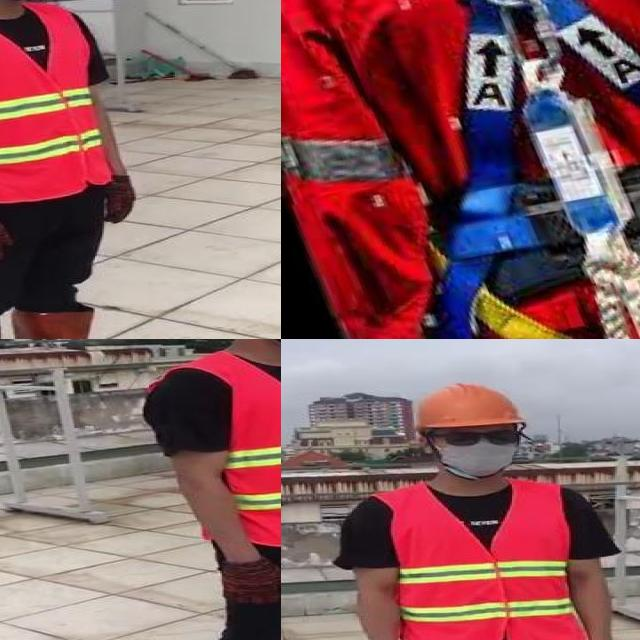Harness: (436, 0, 640, 339)
boots: (7, 308, 146, 339)
face_mask: (433, 424, 522, 478)
glasses: (434, 422, 532, 454)
hand_glove: (216, 558, 281, 604), (111, 175, 136, 223), (0, 218, 13, 264)
head_helmet: (408, 380, 525, 433)
person: (350, 377, 624, 640), (0, 0, 162, 339), (130, 339, 281, 640)
vest: (386, 482, 585, 640), (152, 347, 281, 543), (0, 0, 109, 204)
